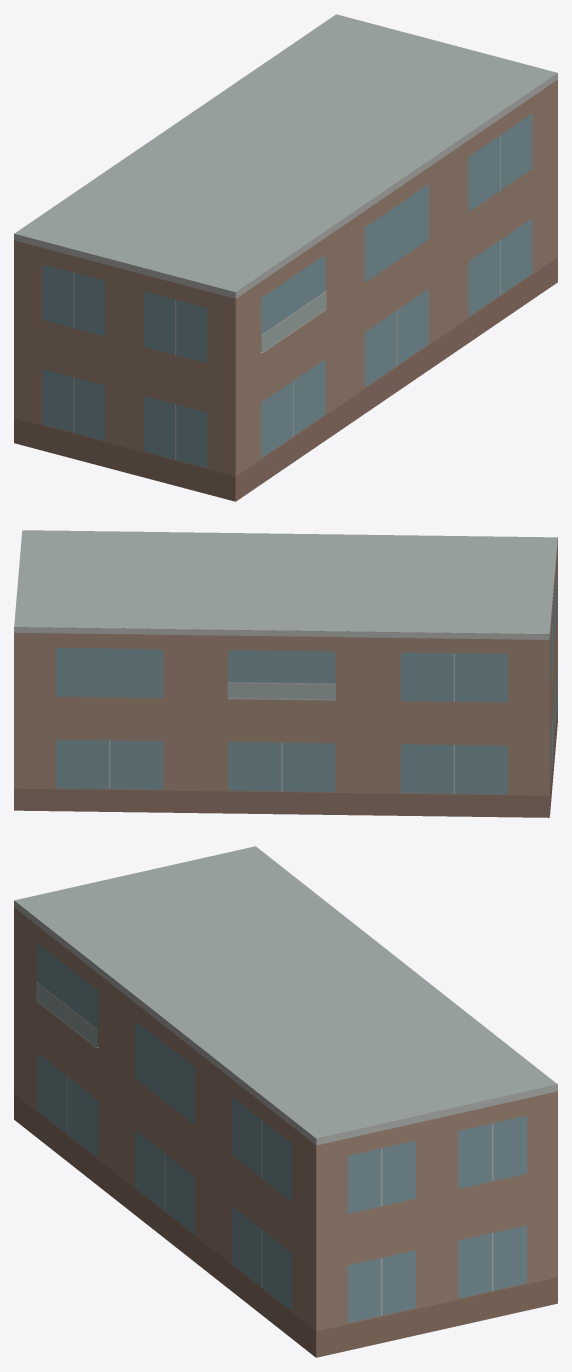
File: survey-upis-32951498.glb
The picture shows the model from 3 angles, top to bottom: view 1: azimuth 30°, elevation 25°; view 2: azimuth 150°, elevation 25°; view 3: azimuth 270°, elevation 25°; orthographic projection. The views are drawn at different scales.
Parts seen in each view (by area): view 1: survey-upis-32951498.tmp; view 2: survey-upis-32951498.tmp; view 3: survey-upis-32951498.tmp.
Part boxes in pixels (<box>): survey-upis-32951498.tmp: <box>14,14,557,501</box>; survey-upis-32951498.tmp: <box>14,530,557,817</box>; survey-upis-32951498.tmp: <box>14,846,557,1357</box>.
Bounding box in the file's own units: 22.04 × 7.7 × 17.32.
